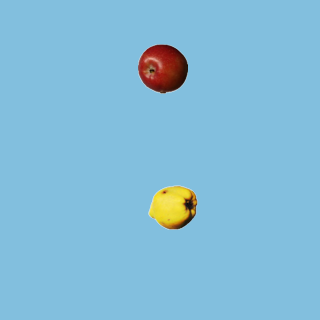Apple Braeburn: (137, 43, 187, 93)
Quince: (147, 182, 197, 232)
